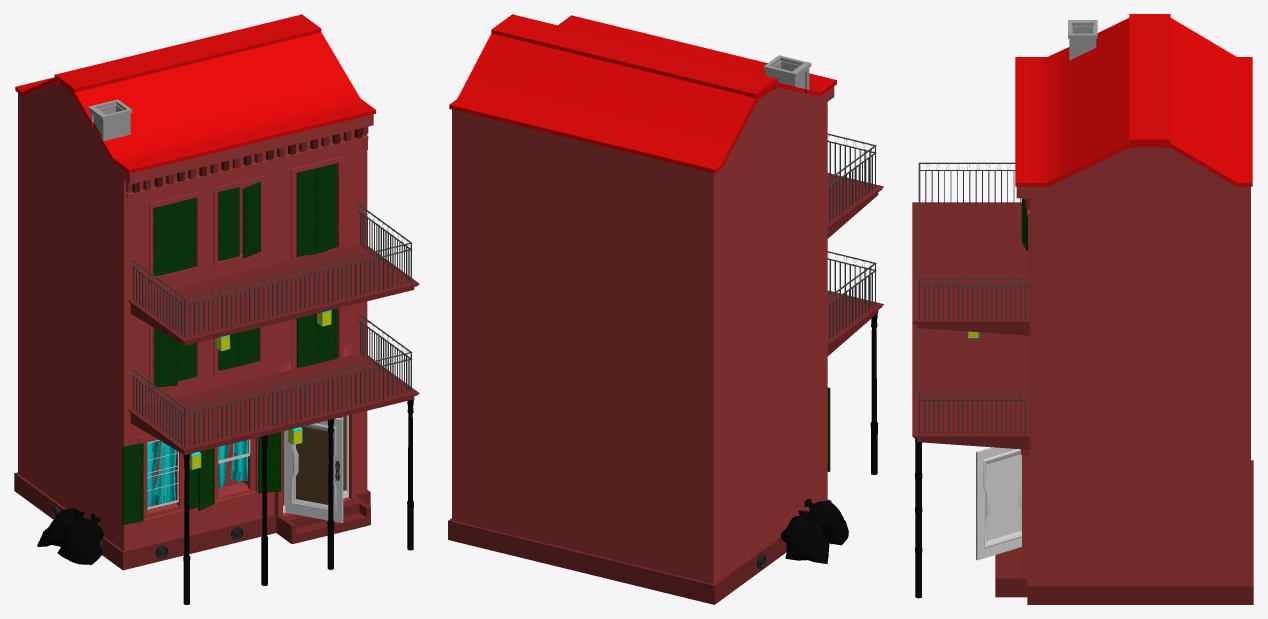
Rendered from house2_merged2.fbx.
3 renders of one model, left to right at view 1: azimuth 30°, elevation 25°; view 2: azimuth 150°, elevation 25°; view 3: azimuth 270°, elevation 25°, orthographic. The views are drawn at different scales.
Visible parts, largest first — view 1: house3; view 2: house3; view 3: house3.
Part boxes in pixels (box(x1,y1,x2,y2)): house3: box(14, 14, 419, 604); house3: box(448, 14, 883, 604); house3: box(912, 14, 1253, 604).
Size of the model in its own units: 8.69 by 12.82 by 8.52.
